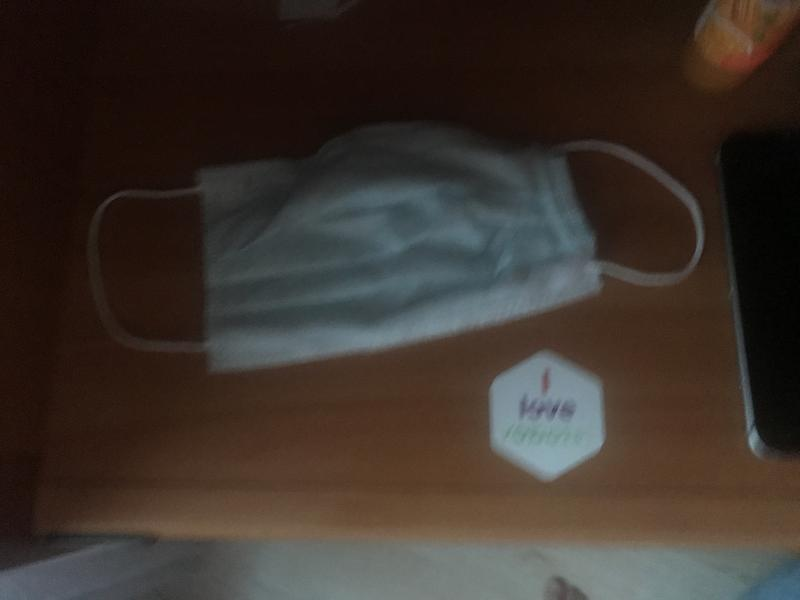medical_mask: (90, 123, 706, 358)
